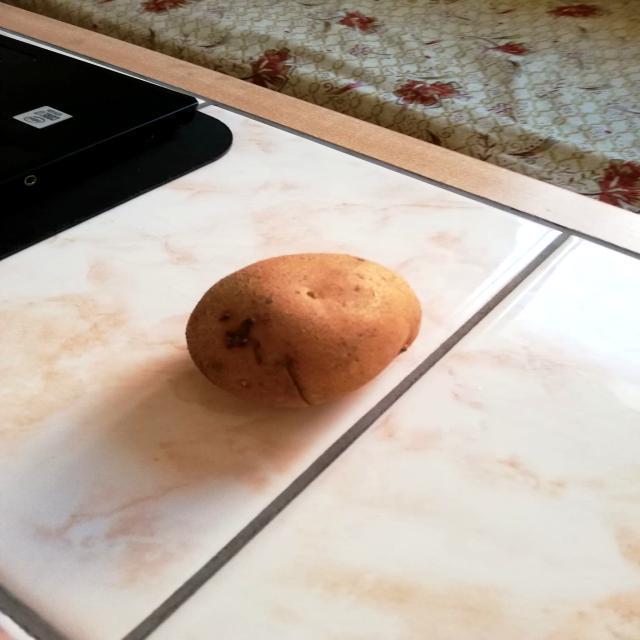potato: (182, 242, 429, 412)
